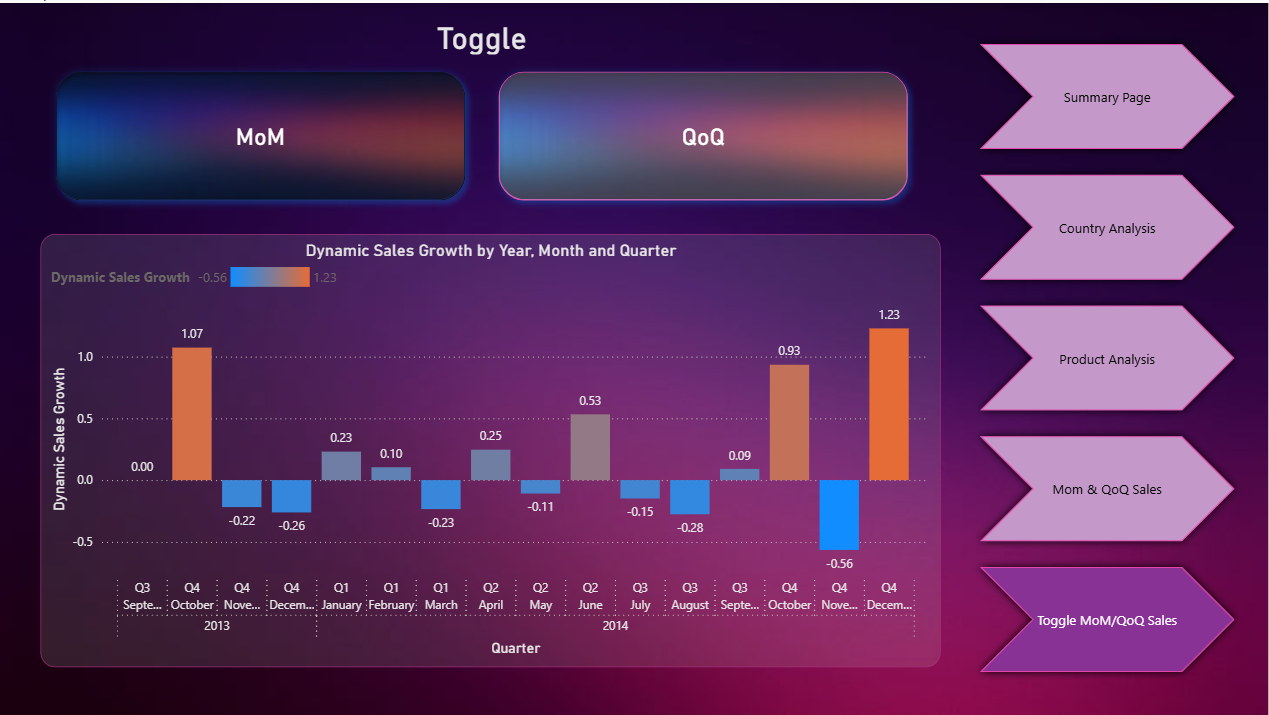

What the dashboard file says about the page in this screenshot:
{"tool":"powerbi","page":{"name":"Toggle MoM/QoQ Sales","canvas":[1280,720],"ordinal":1},"visuals":[{"type":"advancedSlicerVisual","fields":{"Values":["ToggleTable.Toggle"]},"box":[358.3,18.3,563.3,198.3],"z":0},{"type":"clusteredColumnChart","fields":{"Category":["DateDimension.Date.Variation.Date Hierarchy.Year","DateDimension.Date.Variation.Date Hierarchy.Month"],"Y":["ToggleTable.Dynamic Sales Growth"]},"box":[293.3,253.3,563.3,416.7],"z":1000},{"type":"pageNavigator","box":[981.7,271.7,273.3,413.3],"z":2000}]}

Visuals, with their boxes in screenshot pixels (x1, y1, x2, y2), scaled from the page's 1280x720 canvas onto the 1269x715 screenshot:
advancedSlicerVisual - ToggleTable.Toggle: (355,18,914,215)
clusteredColumnChart - DateDimension.Date.Variation.Date Hierarchy.Year x DateDimension.Date.Variation.Date Hierarchy.Month: (291,252,849,665)
pageNavigator: (973,270,1244,680)
